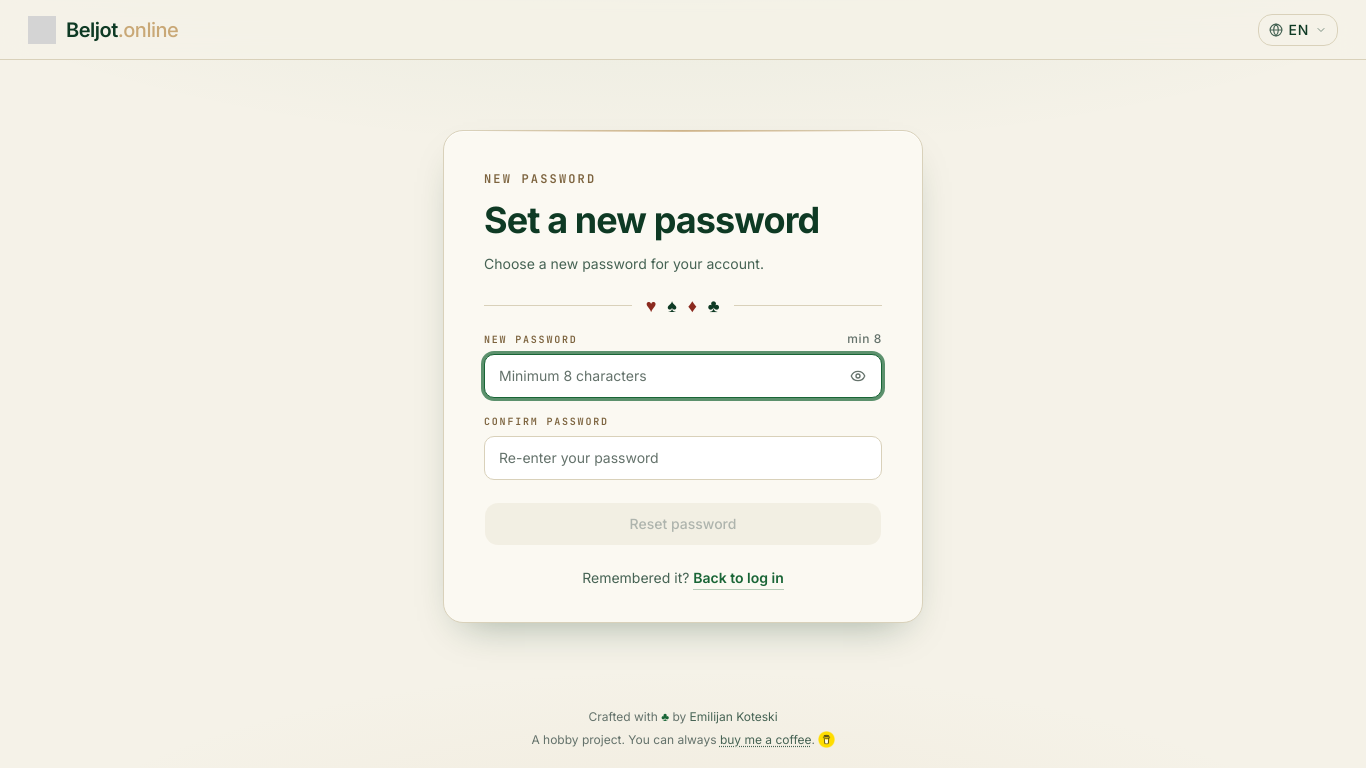
Scenario: ResetPasswordPage › shows the invalid-link state when the server rejects the token
Step 1. Type "brandnewpass1" into the password field with test id "password-input" → [683, 376], box x1=484 y1=354 x2=882 y2=398
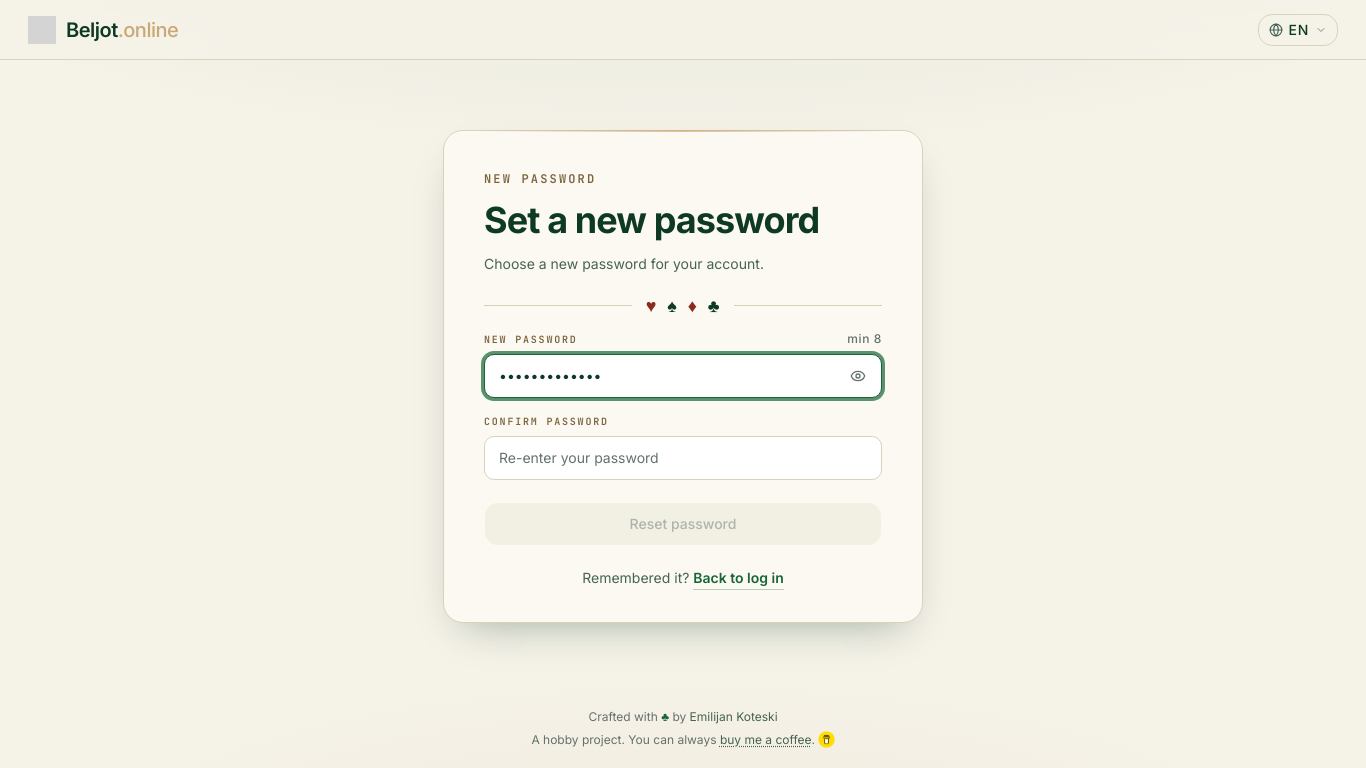
Step 2. Type "brandnewpass1" into the password field with test id "confirm-input" → [683, 458], box x1=484 y1=436 x2=882 y2=480
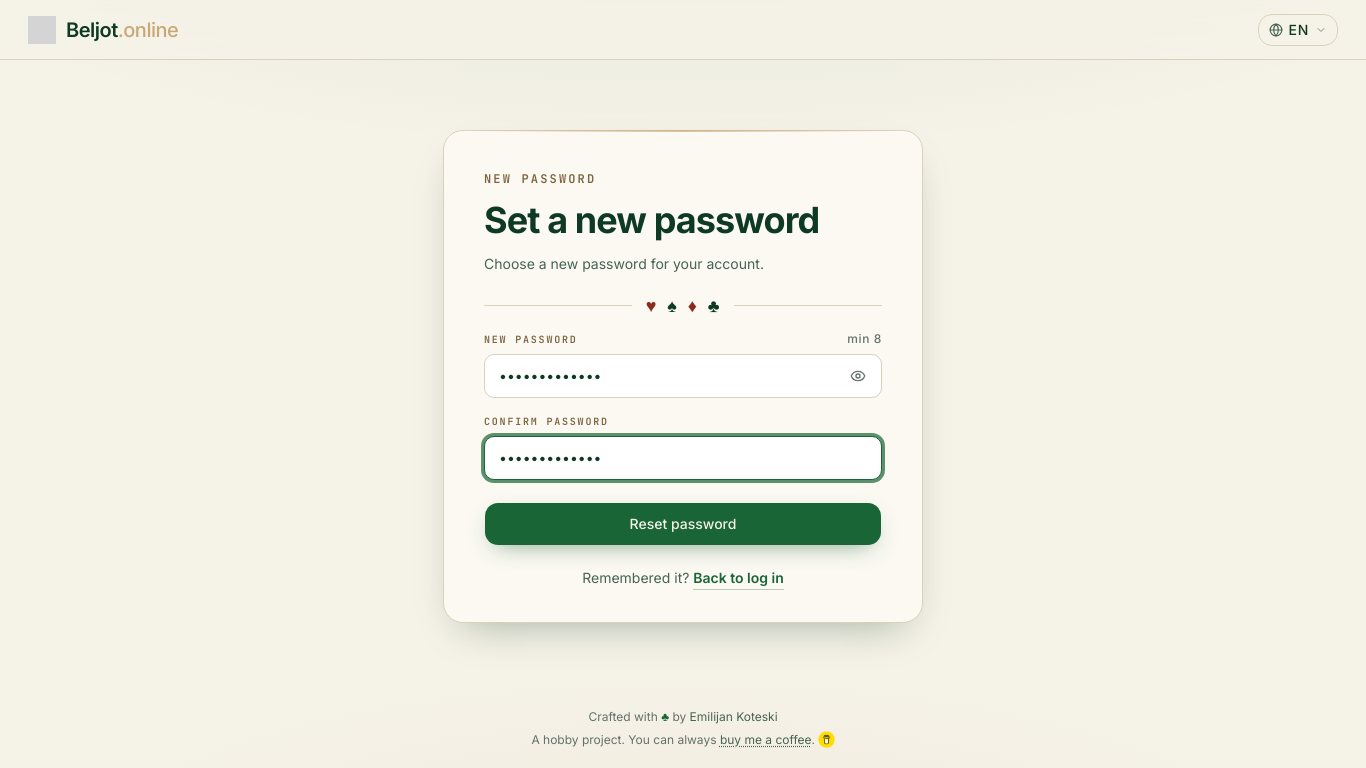
Step 3. Click the button with test id "submit-button" → [683, 524], box x1=484 y1=502 x2=882 y2=546
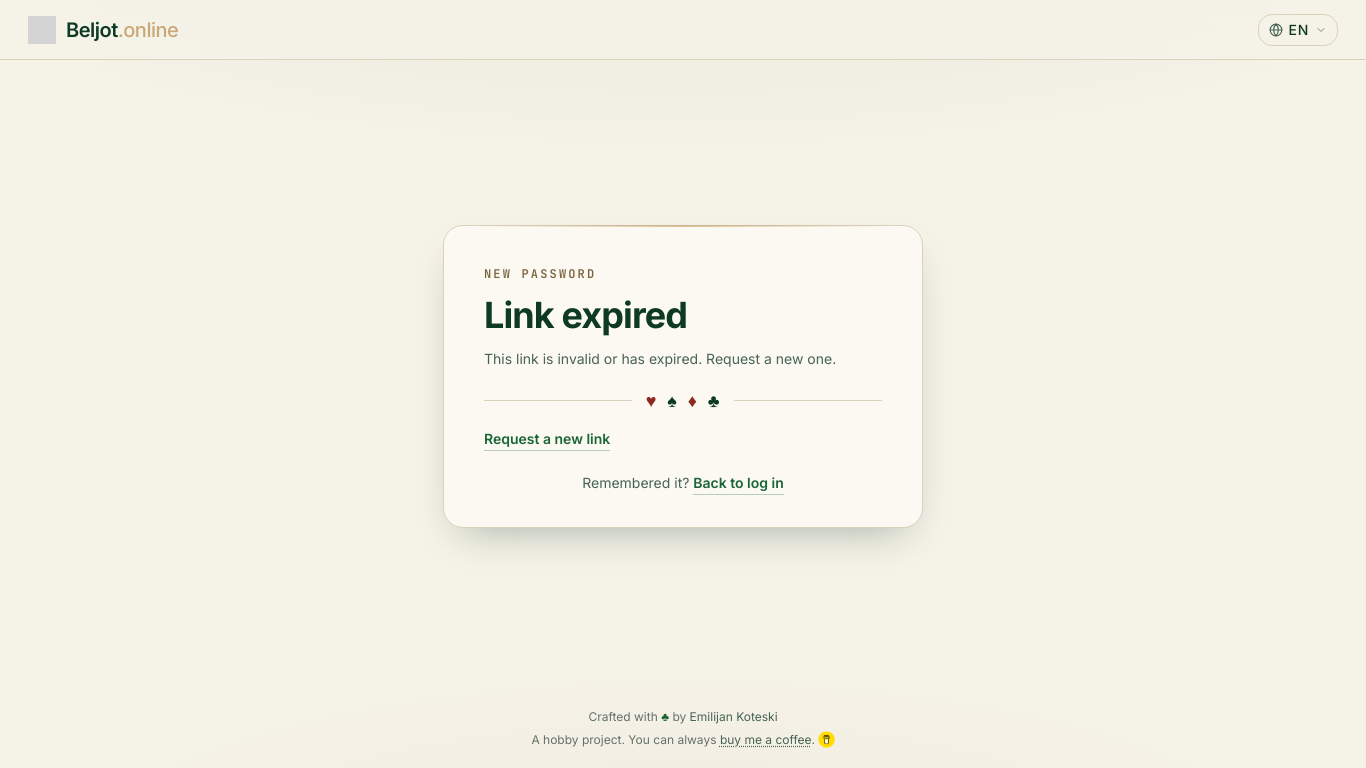
Now the link with test id "request-new-link" is shown, box x1=484 y1=429 x2=610 y2=451
